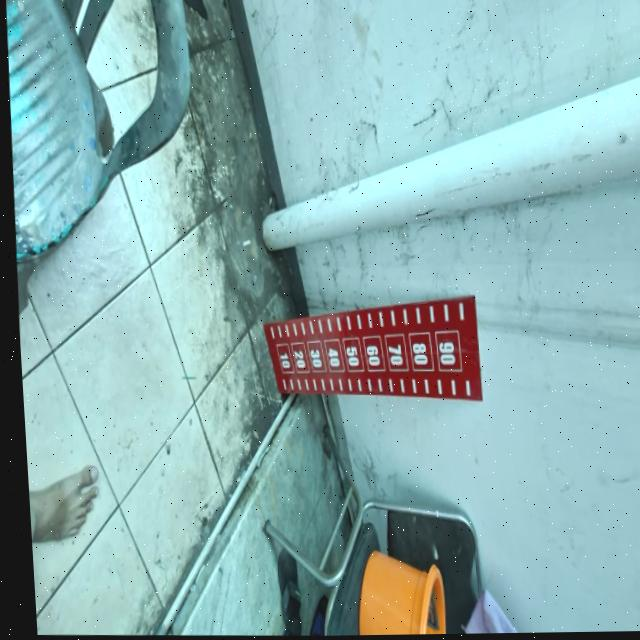water-meter: (254, 272, 493, 425)
